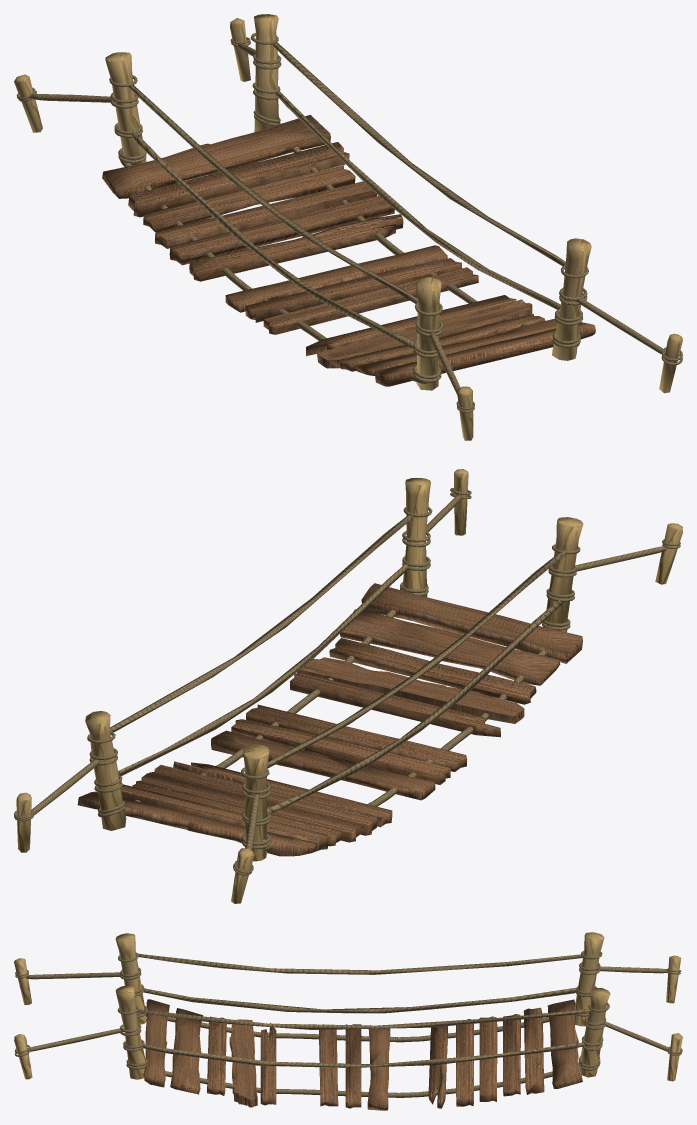
Rendered from rope_bridge.glb.
The picture shows the model from 3 angles, top to bottom: view 1: azimuth 30°, elevation 25°; view 2: azimuth 150°, elevation 25°; view 3: azimuth 270°, elevation 25°; orthographic projection. The views are drawn at different scales.
Visible parts, largest first — view 1: rope_bridge; view 2: rope_bridge; view 3: rope_bridge.
Boxes of the visible parts, box(x1,y1,x2,y2) form: rope_bridge: box(14, 14, 682, 440); rope_bridge: box(14, 469, 682, 903); rope_bridge: box(14, 932, 682, 1110).
Bounding box in the file's own units: 1.86 × 1.09 × 6.
Materials: 3 (3 with a texture image).
